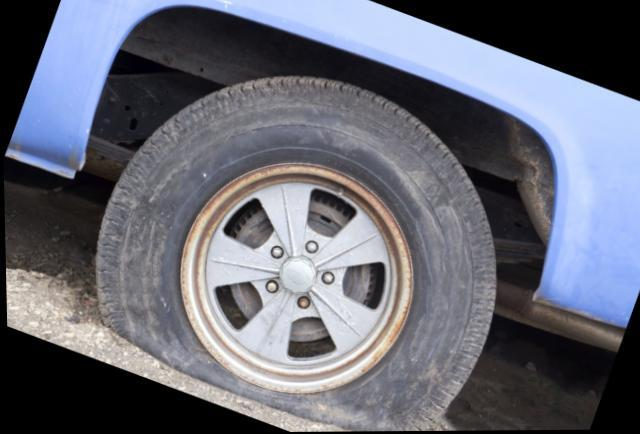tire flat: (95, 76, 495, 432)
